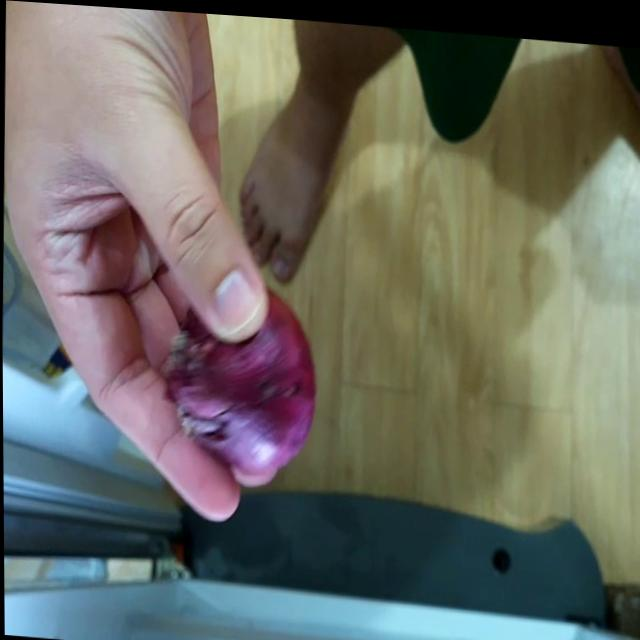onion: (165, 256, 322, 474)
